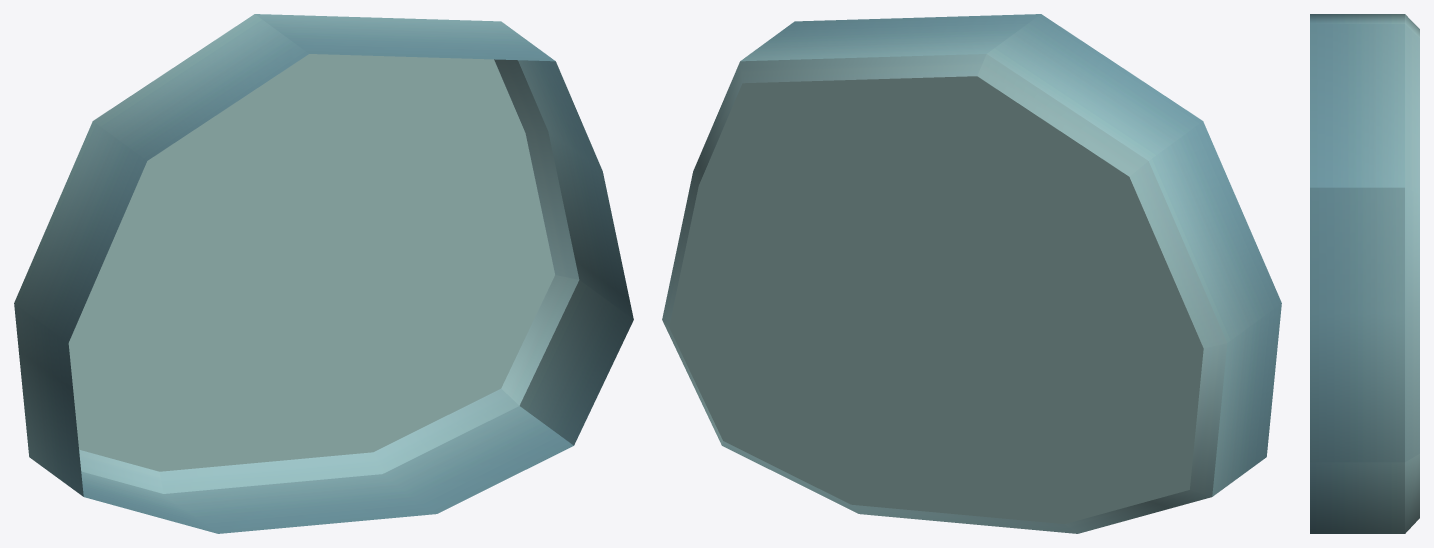
The model's file is Stone Platform 01.FBX.
3 views of the same model, side by side, from view 1: azimuth 30°, elevation 25°; view 2: azimuth 150°, elevation 25°; view 3: azimuth 270°, elevation 25° (orthographic). The views are drawn at different scales.
Parts seen in each view (by area): view 1: Stone Platform 01; view 2: Stone Platform 01; view 3: Stone Platform 01.
Boxes of the visible parts, x1=… form: Stone Platform 01: x1=14, y1=14, x2=633, y2=533; Stone Platform 01: x1=662, y1=14, x2=1281, y2=533; Stone Platform 01: x1=1310, y1=14, x2=1419, y2=533.
Bounding box in the file's own units: 559 × 464 × 108.
1 material, 1 textured.
